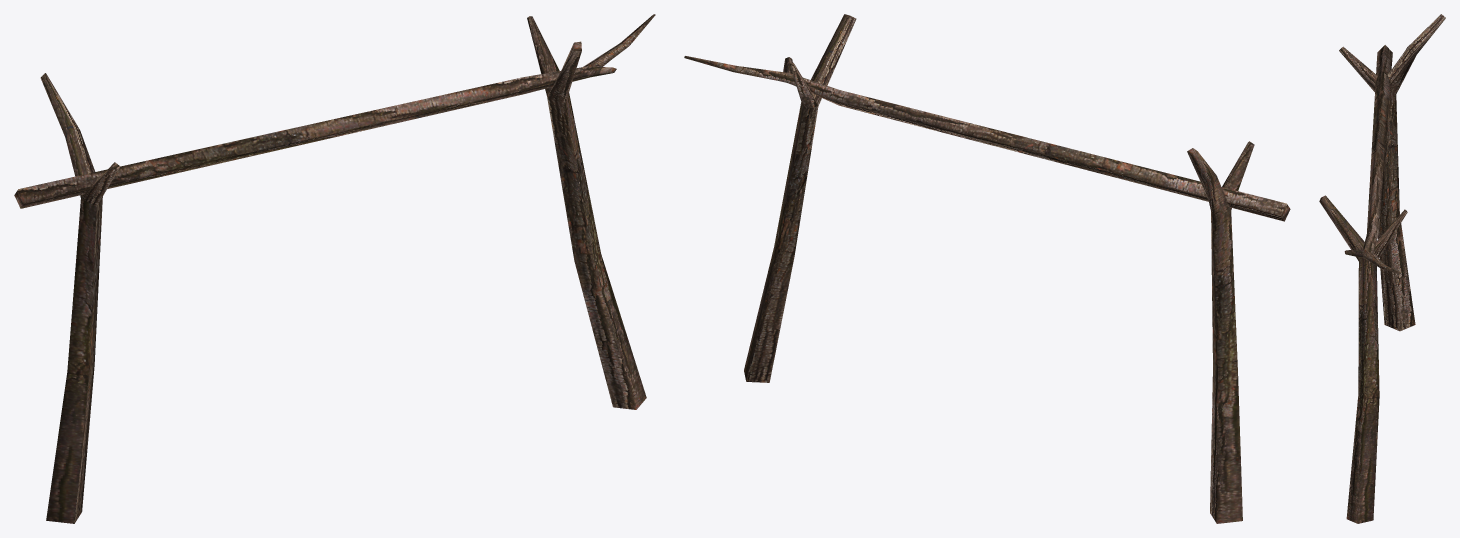
The model's file is 3Tree.fbx.
3 views of the same model, side by side, from view 1: azimuth 30°, elevation 25°; view 2: azimuth 150°, elevation 25°; view 3: azimuth 270°, elevation 25° (orthographic). The views are drawn at different scales.
Parts seen in each view (by area): view 1: Tree; view 2: Tree; view 3: Tree.
Boxes of the visible parts, x1,y1,x2,y2 form: Tree: [14, 14, 655, 523]; Tree: [684, 14, 1290, 523]; Tree: [1319, 14, 1445, 523].
Bounding box in the file's own units: 145 × 90.02 × 32.8.
